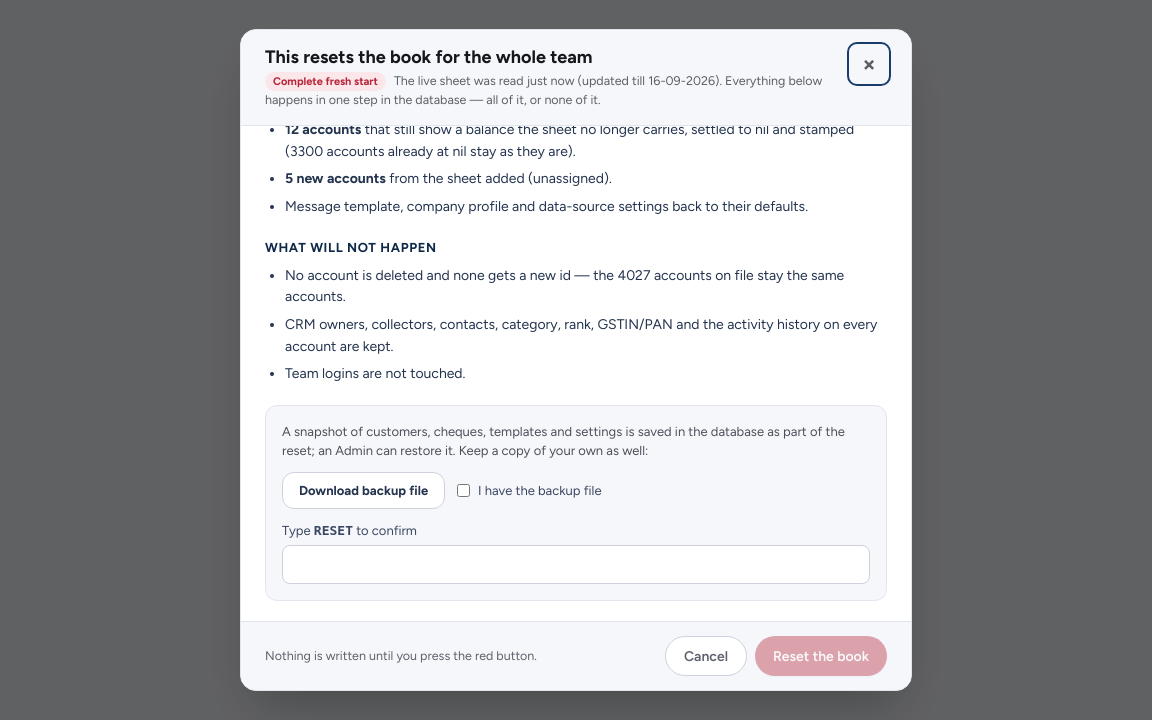
it: ResetConfirmModal › the red button stays disabled until the backup is taken AND the phrase is typed exactly
(page scrolled)
expect the button "Reset the book" is disabled: met, box [755,636,887,676]
In the field named "Confirmation phrase": (576, 564) [282,544,870,584], type "RESET"
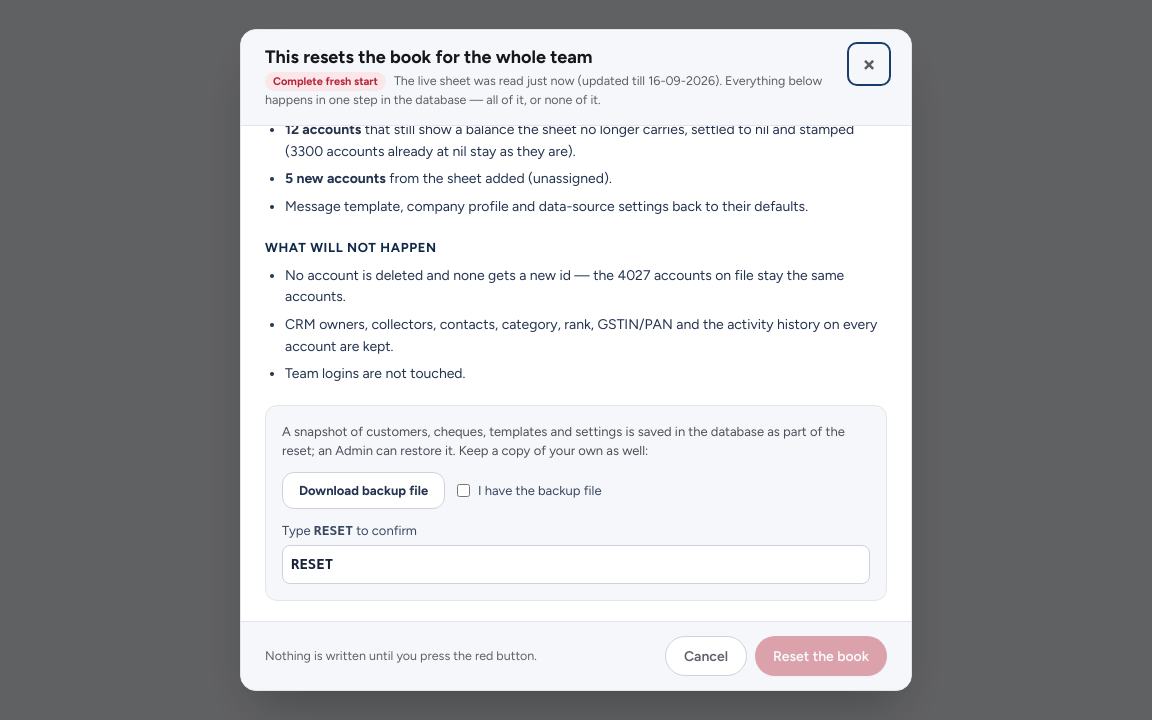
expect the button "Reset the book" is disabled: met, box [755,636,887,676]
Click the button "Download backup file": (364, 491) [282,472,445,509]
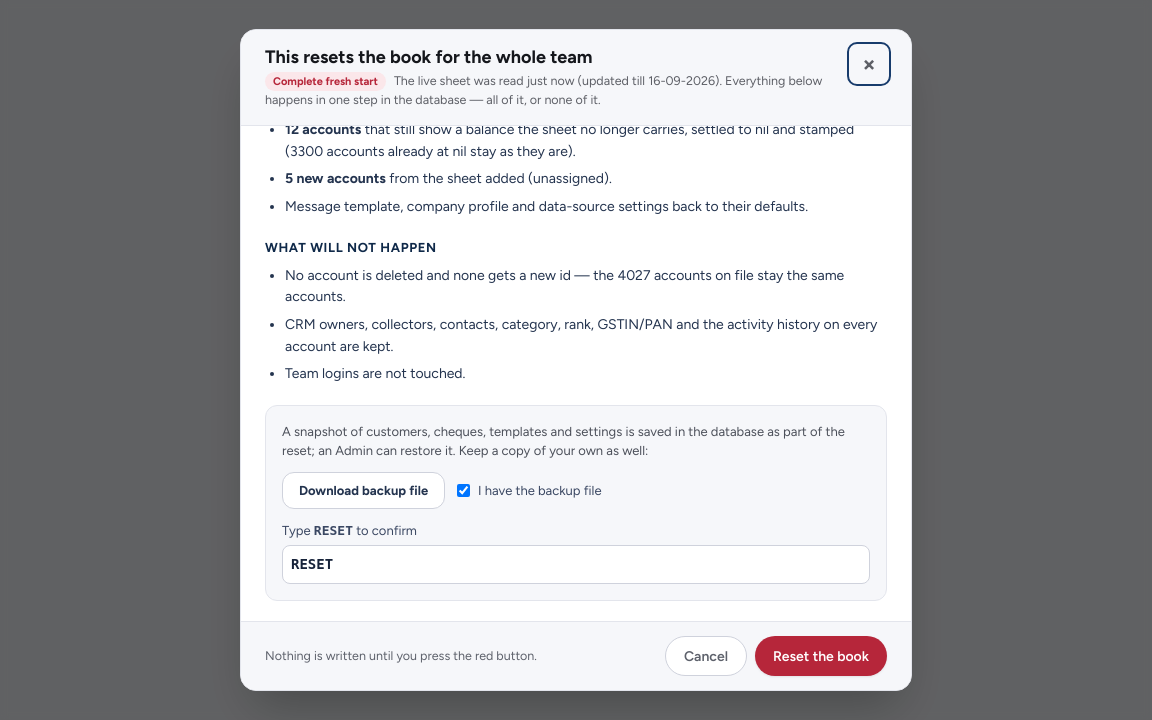
expect the button "Reset the book" is enabled: met, box [755,636,887,676]
Replace the text in the field named "Confirmation phrase" with "reset": (576, 564) [282,544,870,584]
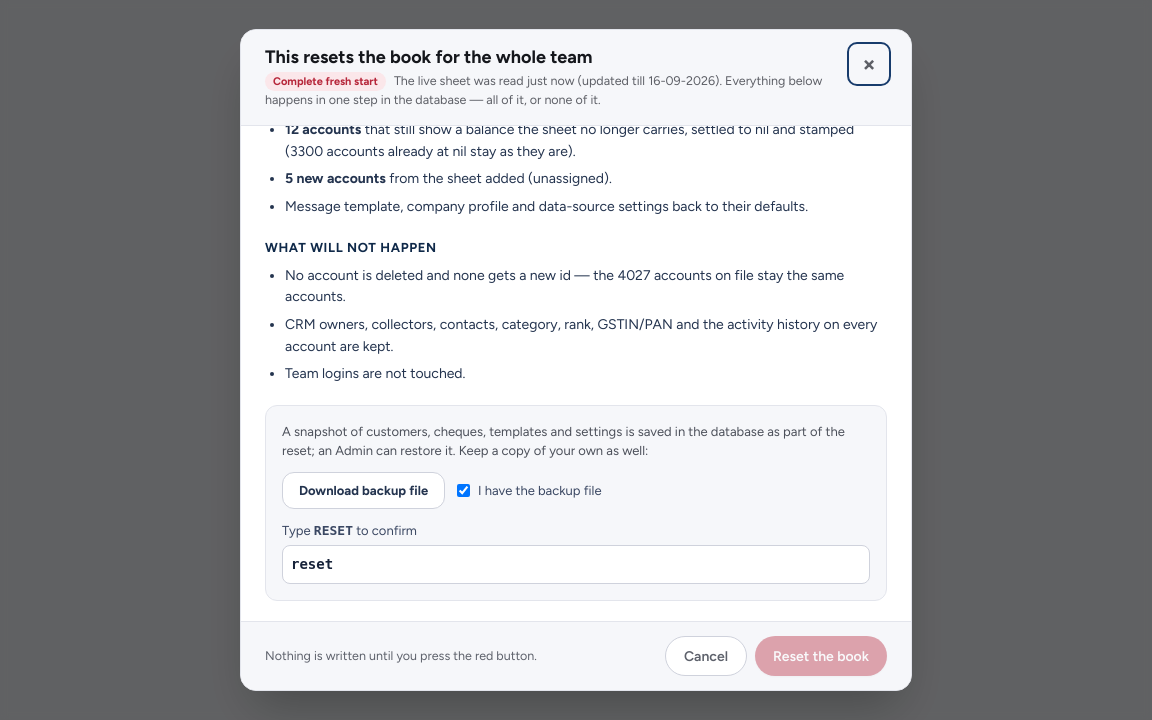
expect the button "Reset the book" is disabled: met, box [755,636,887,676]
Replace the text in the field named "Confirmation phrase" with "RESET": (576, 564) [282,544,870,584]
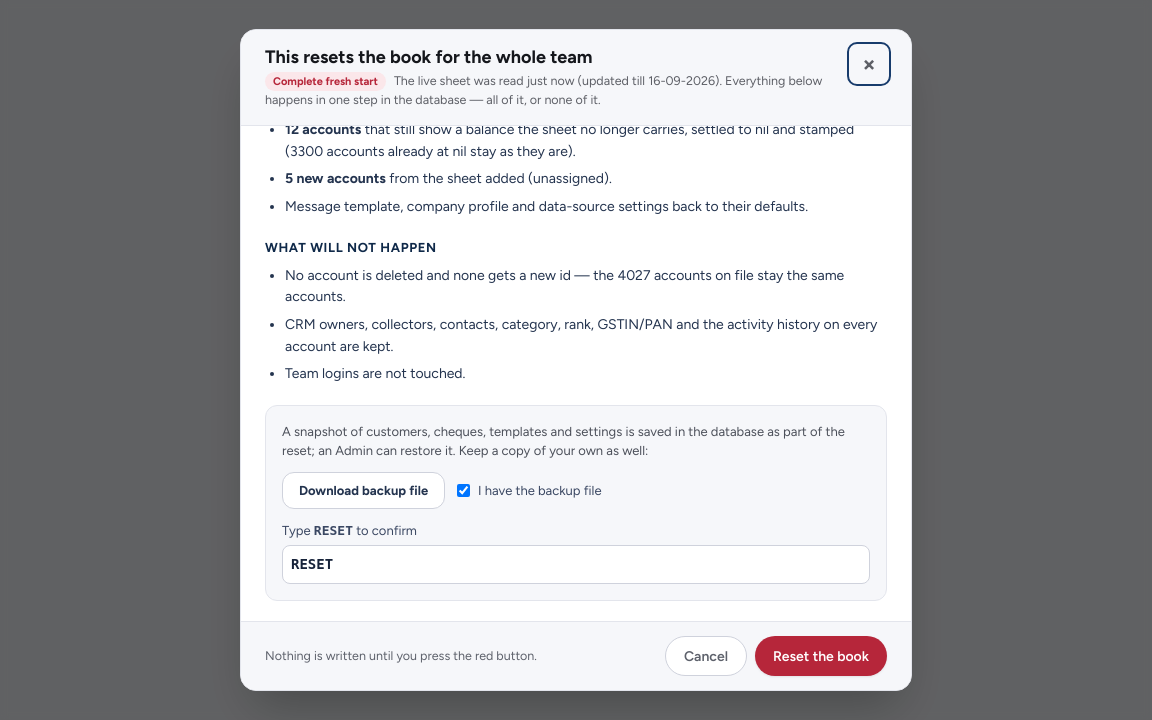
Click the checkbox labelled "I have the backup file": (464, 491) [457,484,470,497]
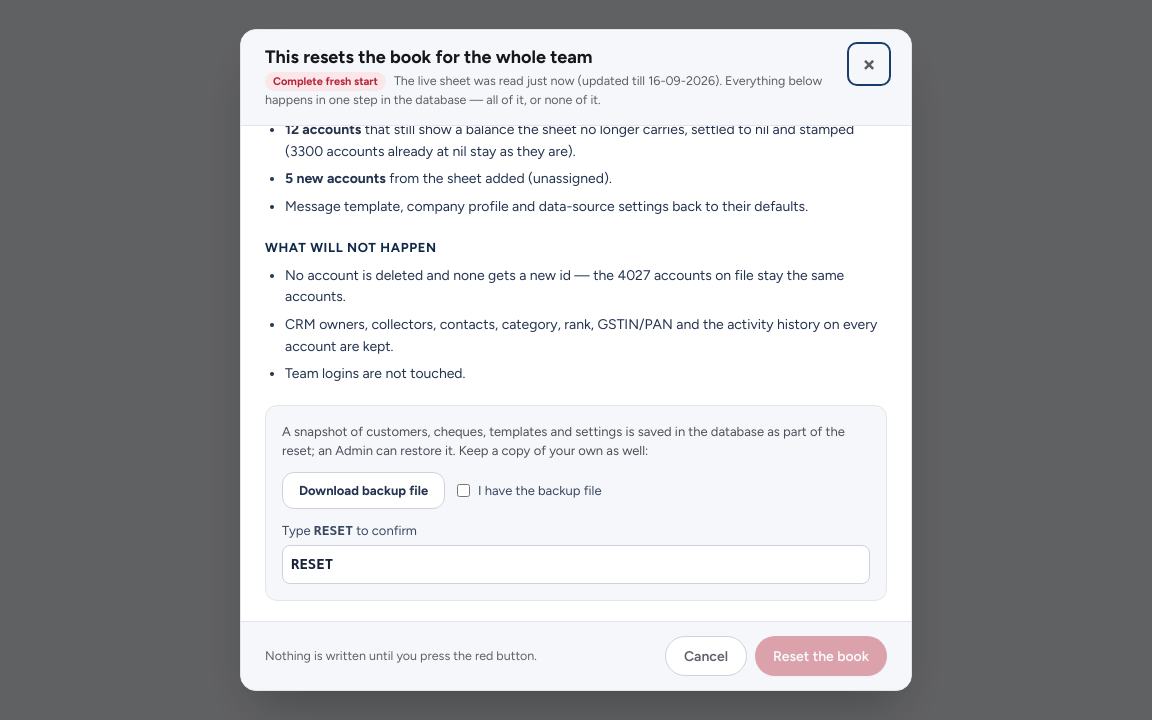
expect the button "Reset the book" is disabled: met, box [755,636,887,676]
